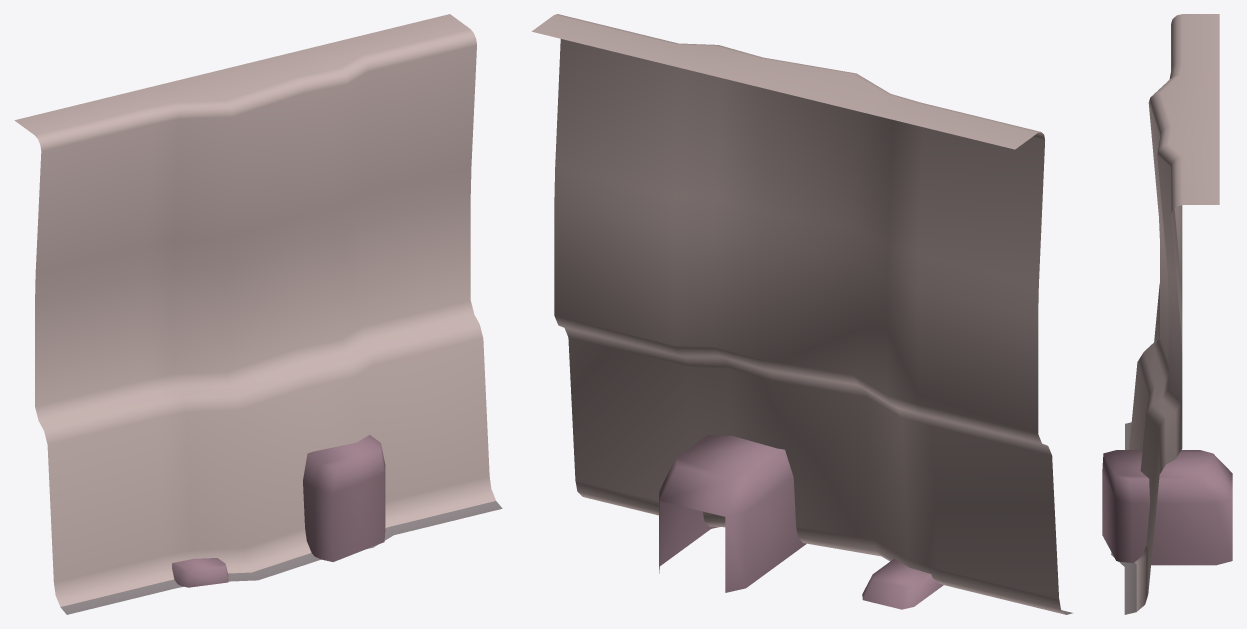
Rendered from 1_Wall_2.glb.
3 views of the same model, side by side, from view 1: azimuth 30°, elevation 25°; view 2: azimuth 150°, elevation 25°; view 3: azimuth 270°, elevation 25° (orthographic). The views are drawn at different scales.
Visible parts, largest first — view 1: 1_Wall2; view 2: 1_Wall2; view 3: 1_Wall2.
Part boxes in pixels (x1,y1,x2,y2): 1_Wall2: (14,14,502,614); 1_Wall2: (532,14,1072,614); 1_Wall2: (1102,14,1232,614).
Size of the model in its own units: 4 by 4 by 1.15.
